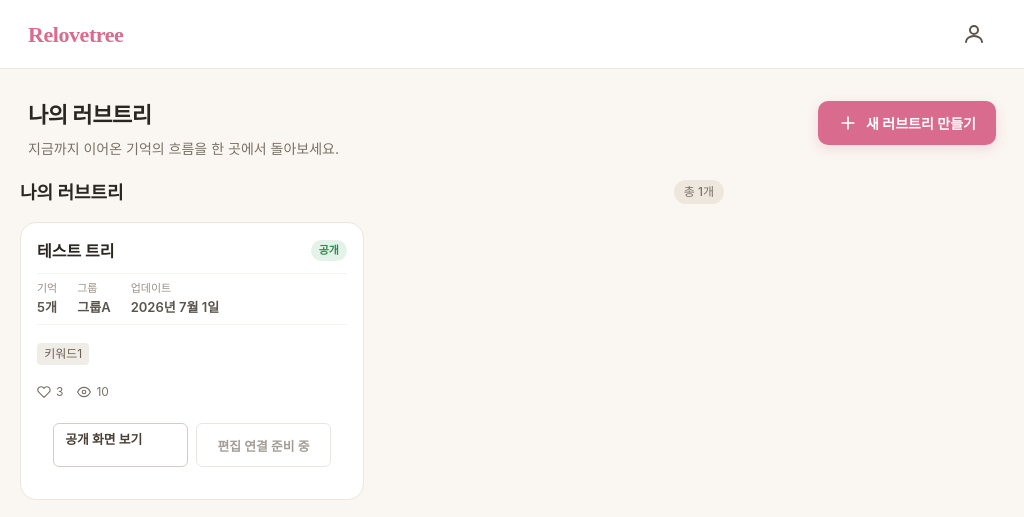
Scenario: MyTreesPage — /my-trees › logout — failure and retry › exact Korean failure message renders
Click the button named "로그아웃": x=974, y=34 top-left (952, 12), bottom-right (996, 56)
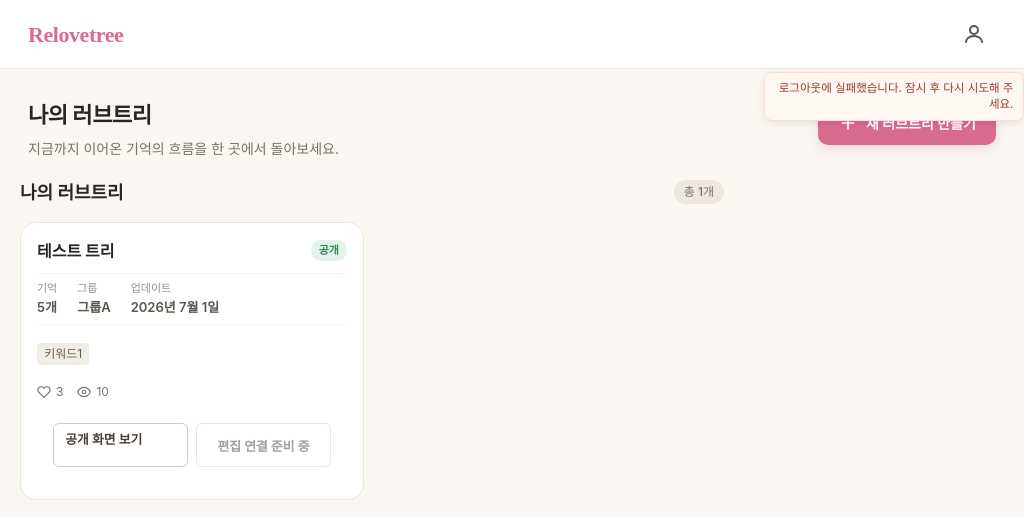
Result: the text "로그아웃에 실패했습니다. 잠시 후 다시 시도해 주세요." is shown at top-left (764, 72), bottom-right (1023, 121)
